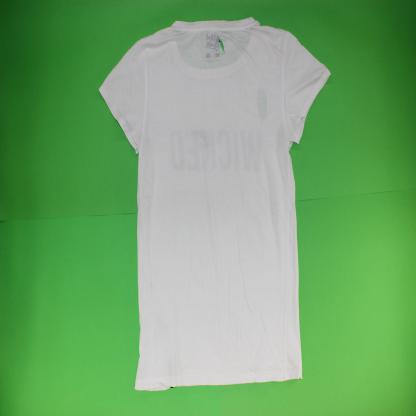hole: (216, 34, 226, 56)
